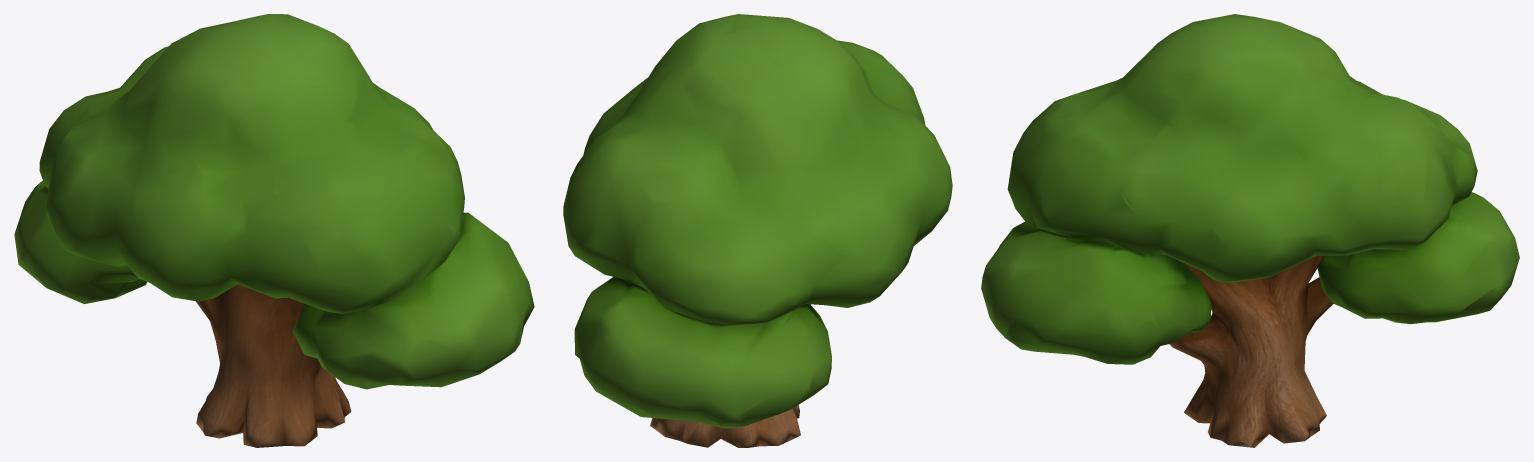
Rendered from textures.glb.
3 views of the same model, side by side, from view 1: azimuth 30°, elevation 25°; view 2: azimuth 150°, elevation 25°; view 3: azimuth 270°, elevation 25° (orthographic). The views are drawn at different scales.
Parts seen in each view (by area): view 1: tripo_node_7d1c2e59-3348-4749-876f-5b72e021a923; view 2: tripo_node_7d1c2e59-3348-4749-876f-5b72e021a923; view 3: tripo_node_7d1c2e59-3348-4749-876f-5b72e021a923.
Boxes of the visible parts, x1=… form: tripo_node_7d1c2e59-3348-4749-876f-5b72e021a923: x1=14, y1=14, x2=534, y2=447; tripo_node_7d1c2e59-3348-4749-876f-5b72e021a923: x1=563, y1=14, x2=952, y2=447; tripo_node_7d1c2e59-3348-4749-876f-5b72e021a923: x1=981, y1=14, x2=1519, y2=447.
Size of the model in its own units: 0.7326 by 0.7805 by 1.
1 material, 1 textured.
